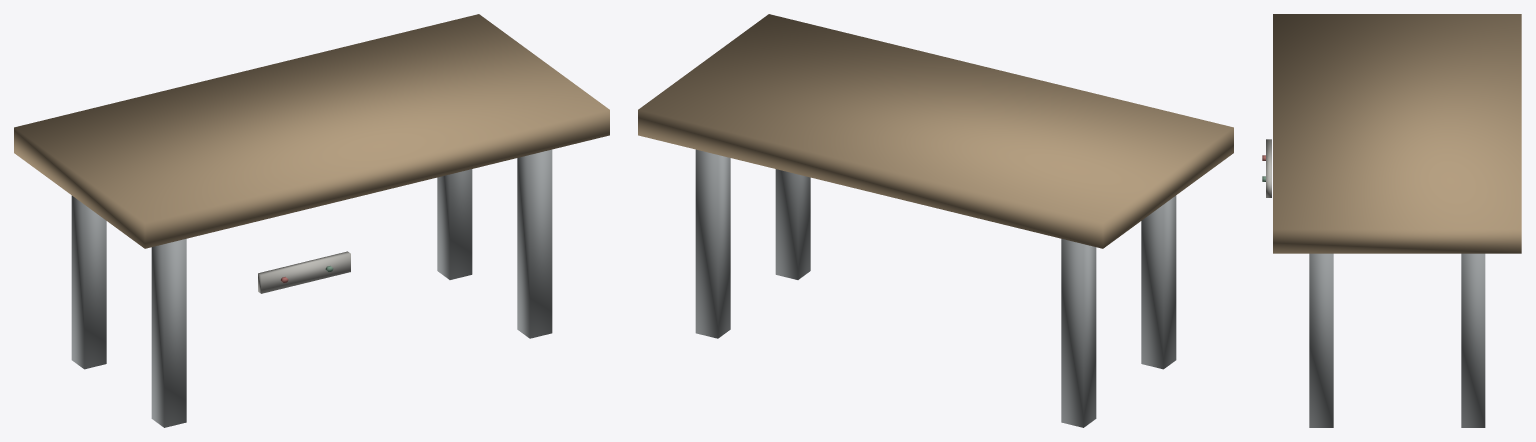
The model's file is workbench__squat.glb.
3 renders of one model, left to right at view 1: azimuth 30°, elevation 25°; view 2: azimuth 150°, elevation 25°; view 3: azimuth 270°, elevation 25°, orthographic. The views are drawn at different scales.
Visible parts, largest first — view 1: world; view 2: world; view 3: world.
Part boxes in pixels (x1=…): world: x1=14, y1=14, x2=609, y2=427; world: x1=638, y1=14, x2=1233, y2=427; world: x1=1262, y1=14, x2=1521, y2=427.
Bounding box in the file's own units: 1.6 × 0.7476 × 0.8111.
